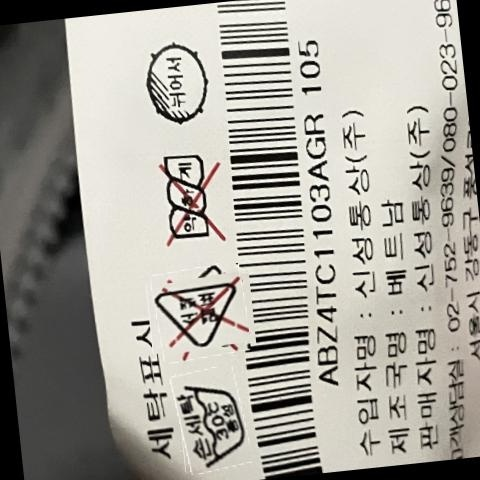DN_wring: (156, 148, 226, 252)
dry_flat_in_shade: (140, 37, 214, 128)
hand_wash: (181, 370, 247, 471)
non_chlorine_bleach: (160, 269, 241, 351)
